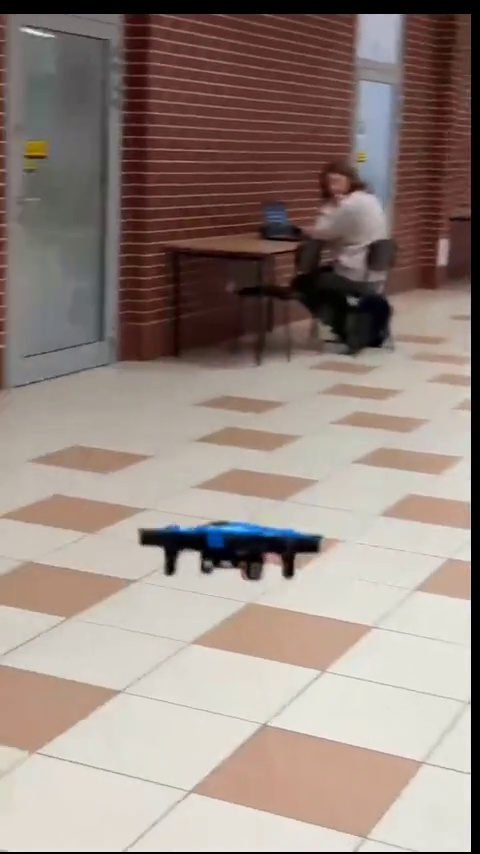drone: (139, 522, 331, 583)
no vest: (287, 162, 389, 349)
